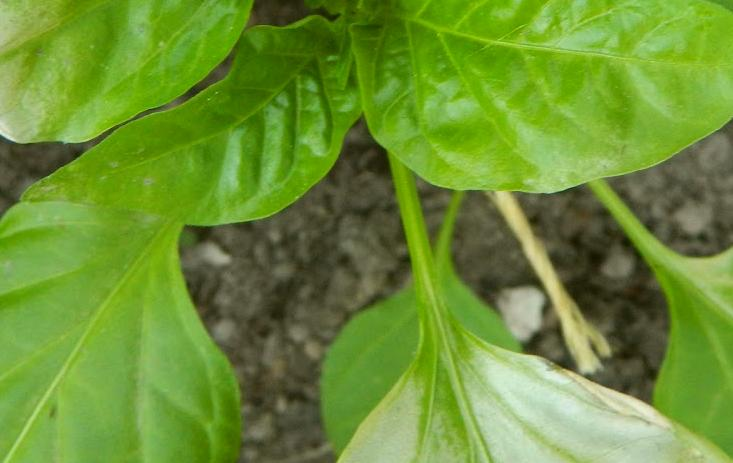Tomato leaf: (0, 48, 335, 463), (360, 0, 733, 201)
